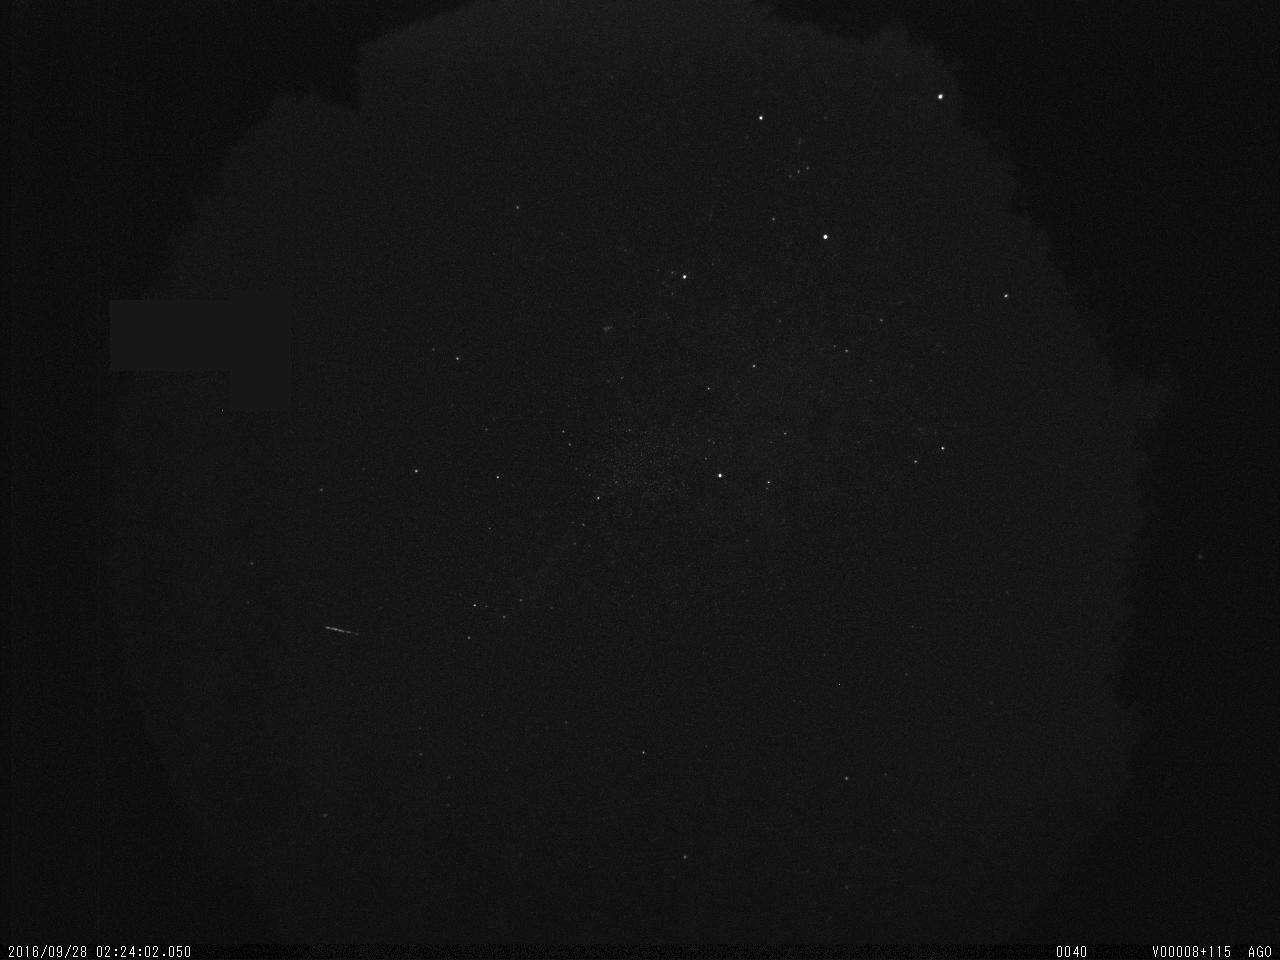meteor: (314, 607, 376, 657)
